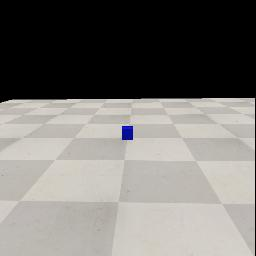box: (122, 126, 133, 140)
